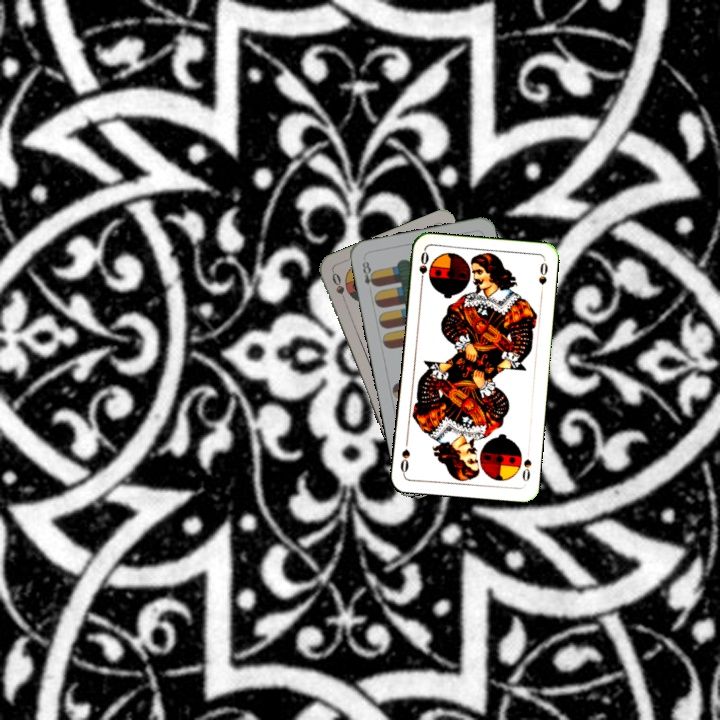E8: (358, 257, 379, 289)
SO: (328, 268, 350, 307), (415, 247, 431, 288), (518, 445, 534, 484)
